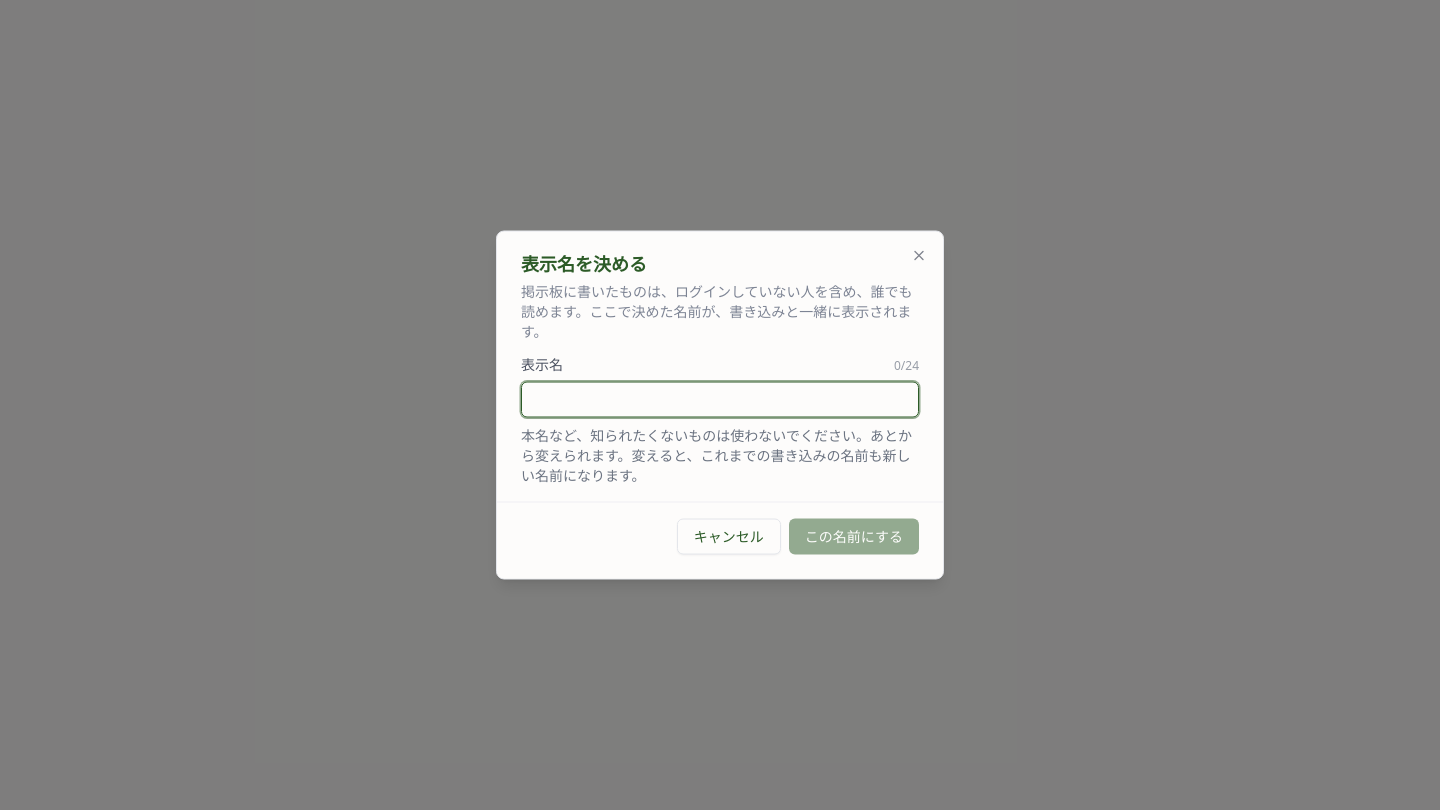
NameDialog — 送信 › サーバの 409（すでに使われています）を画面に出し、閉じず、入力も消さない
This screenshot has width=1440, height=810.
Type "青井" into the field labelled "表示名" at {"x": 720, "y": 400}, box [521, 382, 919, 418]
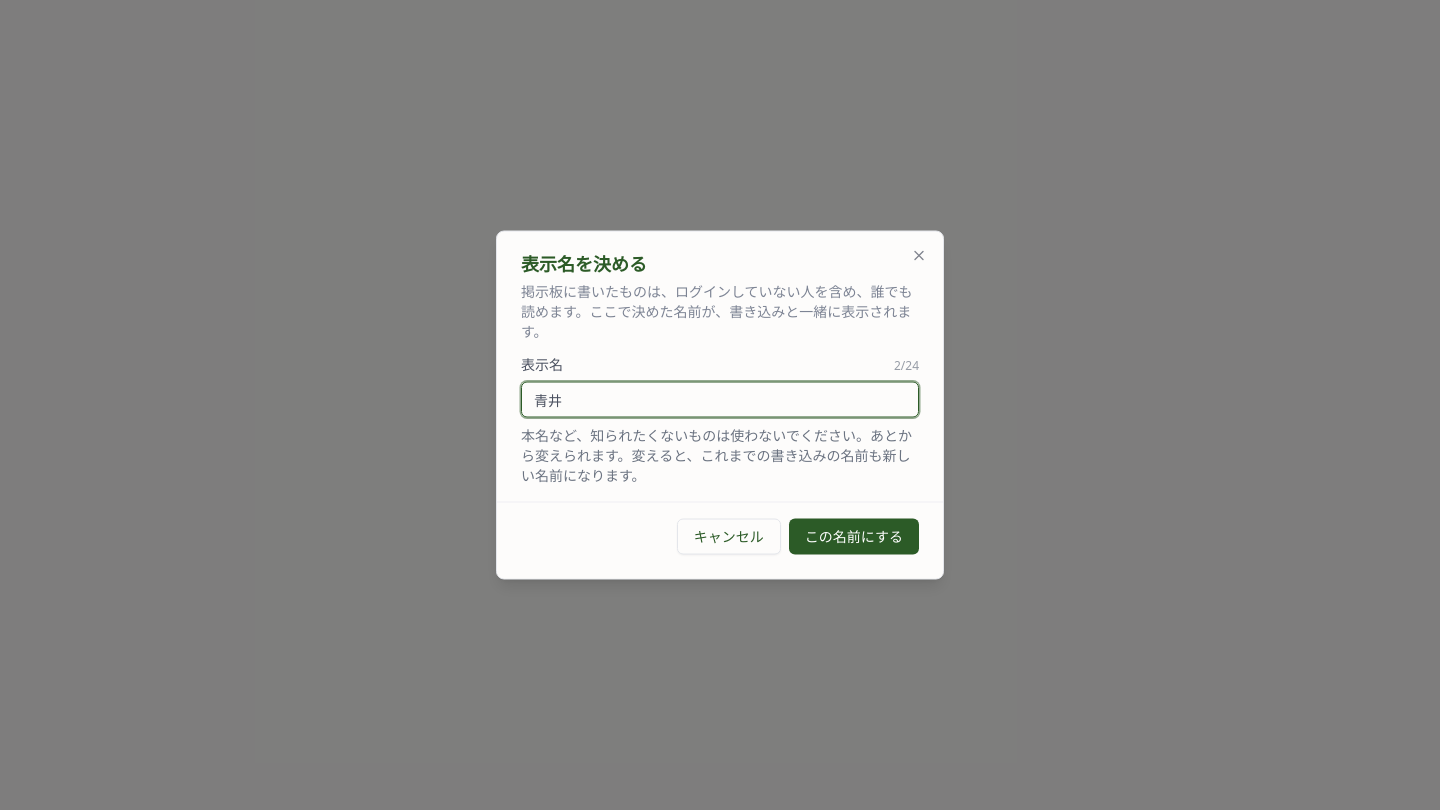
Click the button "この名前にする" at {"x": 854, "y": 536}, box [789, 518, 919, 554]
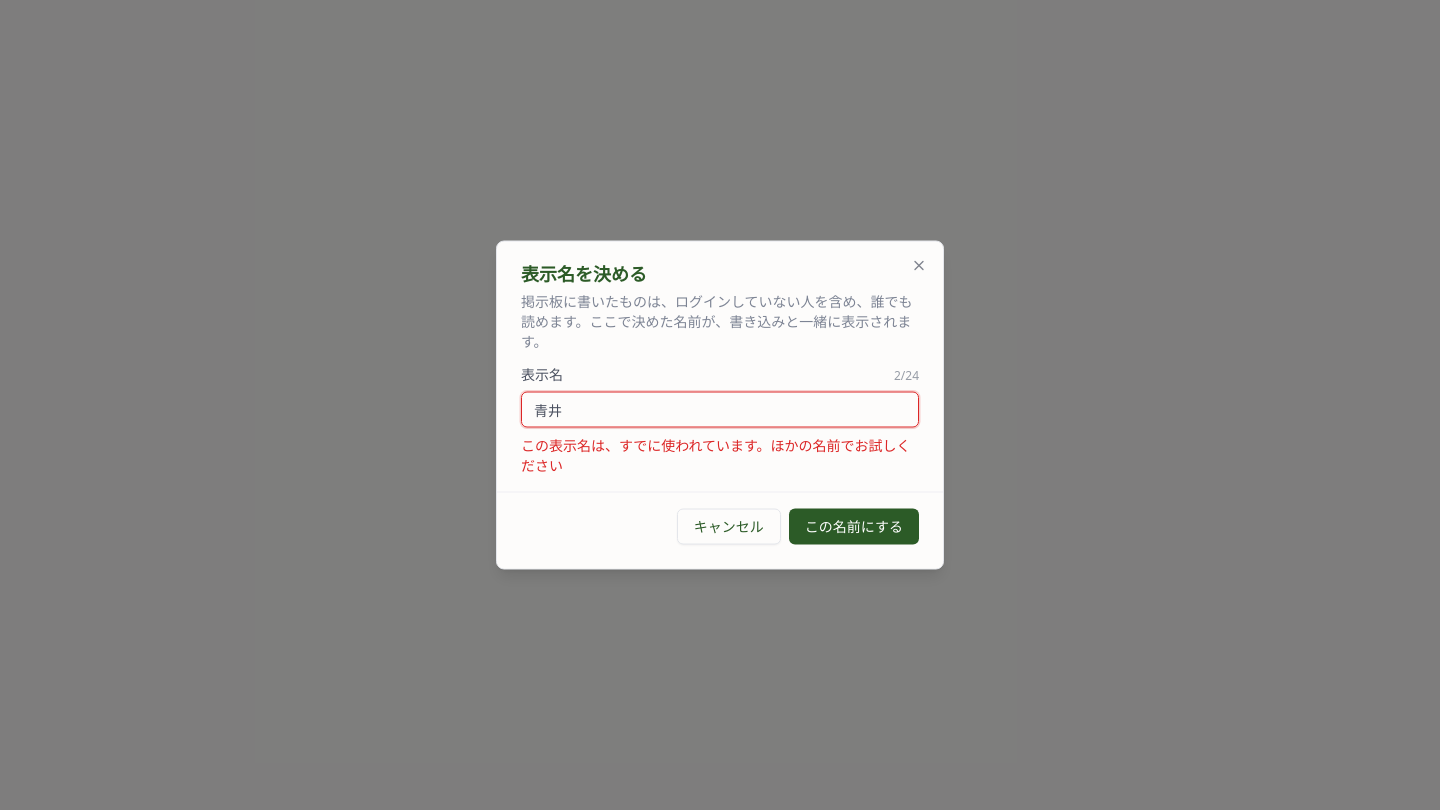
Result: the message reads "この表示名は、すでに使われています。ほかの名前でお試しください" at [521, 436, 911, 474]
